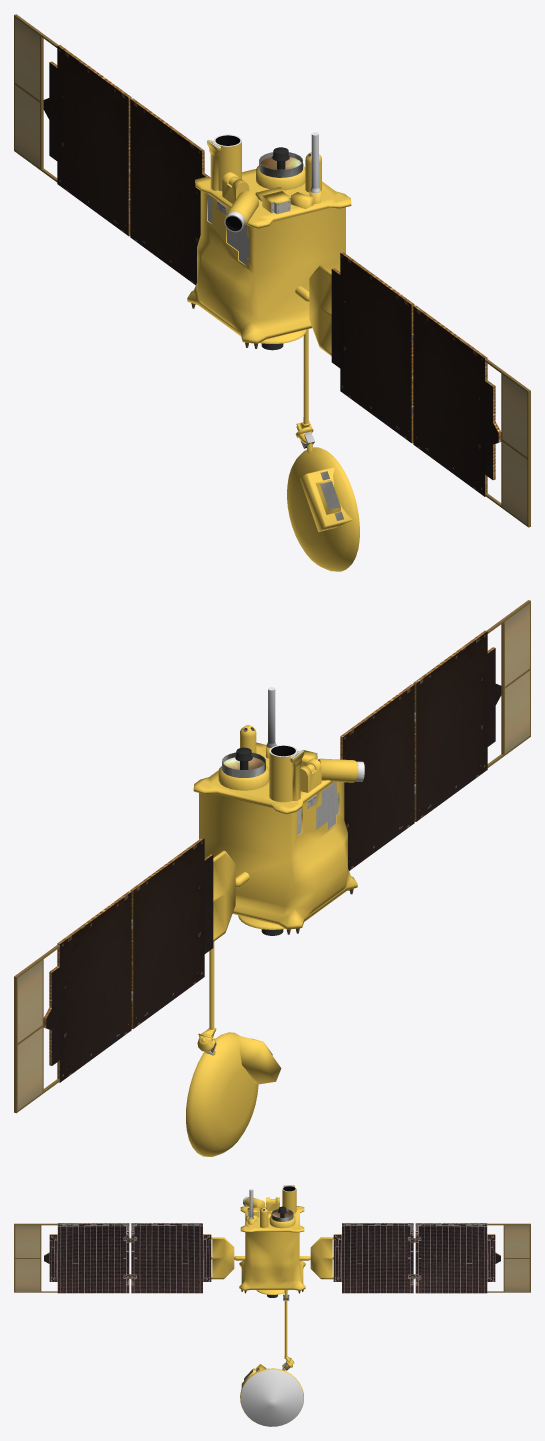
File: mars_global_surveyor.gltf
The picture shows the model from 3 angles, top to bottom: view 1: azimuth 30°, elevation 25°; view 2: azimuth 150°, elevation 25°; view 3: azimuth 270°, elevation 25°; orthographic projection. The views are drawn at different scales.
Parts seen in each view (by area): view 1: tex, foil_gold, AO; view 2: tex, foil_gold, AO; view 3: shiny_panel, foil_gold, tex, foil_silver.
Part boxes in pixels (bbox=[...]): tex: bbox=[14, 14, 530, 527]; foil_gold: bbox=[187, 140, 359, 571]; AO: bbox=[213, 132, 320, 448]; tex: bbox=[14, 600, 530, 1113]; foil_gold: bbox=[186, 725, 358, 1156]; AO: bbox=[205, 687, 364, 1054]; shiny_panel: bbox=[44, 1223, 500, 1293]; foil_gold: bbox=[211, 1186, 333, 1426]; tex: bbox=[14, 1185, 530, 1386]; foil_silver: bbox=[240, 1369, 303, 1426].
Size of the model in its own units: 1.75 by 5.15 by 10.52.
8 materials, 3 textured.
